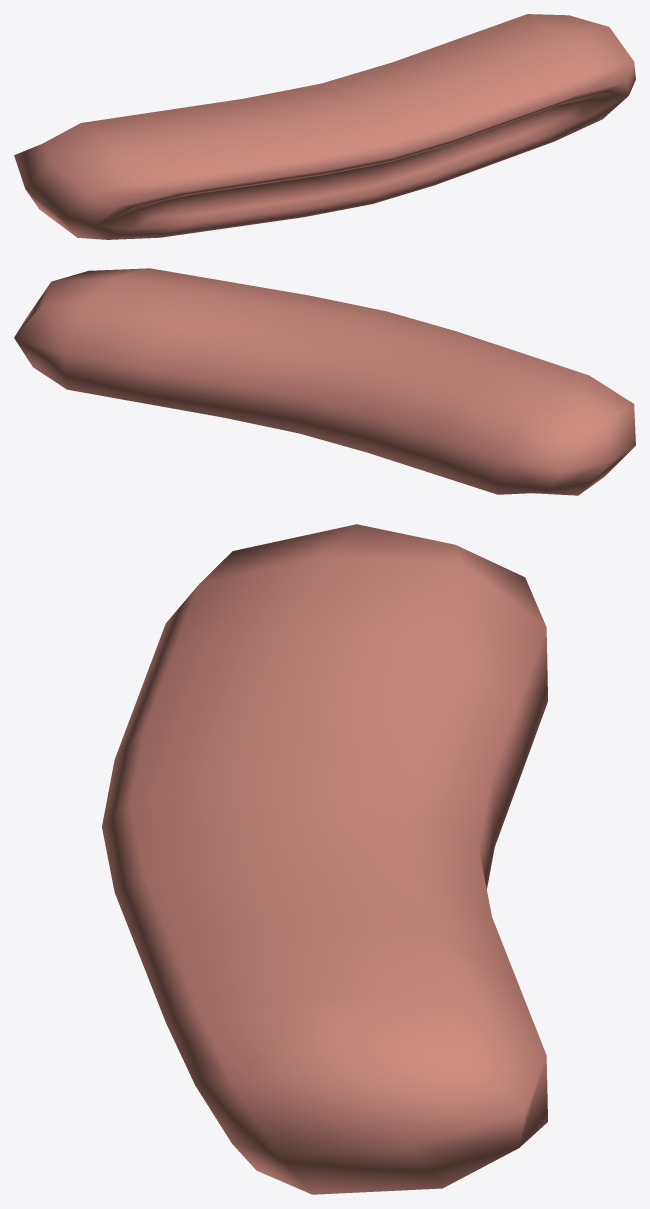
3 renders of one model, top to bottom at view 1: azimuth 30°, elevation 25°; view 2: azimuth 150°, elevation 25°; view 3: azimuth 270°, elevation 25°, orthographic. The views are drawn at different scales.
Parts seen in each view (by area): view 1: person5_mouth; view 2: person5_mouth; view 3: person5_mouth.
Boxes of the visible parts, left/top/right/bottom form: person5_mouth: left=14, top=14, right=635, bottom=239; person5_mouth: left=14, top=268, right=635, bottom=495; person5_mouth: left=102, top=524, right=547, bottom=1194.
Bounding box in the file's own units: 0.3161 × 0.0491 × 0.1044.
